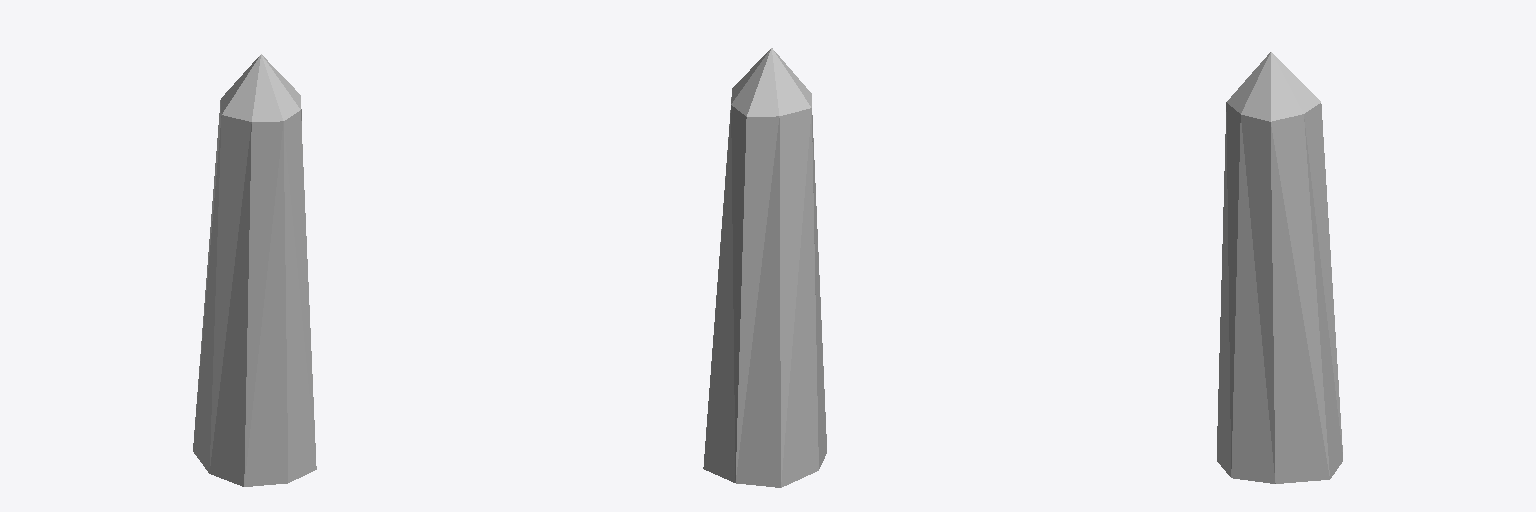
File: queue_5.obj
The picture shows the model from 3 angles: view 1: azimuth 30°, elevation 25°; view 2: azimuth 150°, elevation 25°; view 3: azimuth 270°, elevation 25°; orthographic projection.
Visible parts, largest first — view 1: queue5_Wolf.007; view 2: queue5_Wolf.007; view 3: queue5_Wolf.007.
Boxes of the visible parts, x1=… form: queue5_Wolf.007: x1=193, y1=54, x2=316, y2=486; queue5_Wolf.007: x1=703, y1=48, x2=826, y2=487; queue5_Wolf.007: x1=1217, y1=52, x2=1342, y2=483.
Bounding box in the file's own units: 4.14 × 16.64 × 4.67.